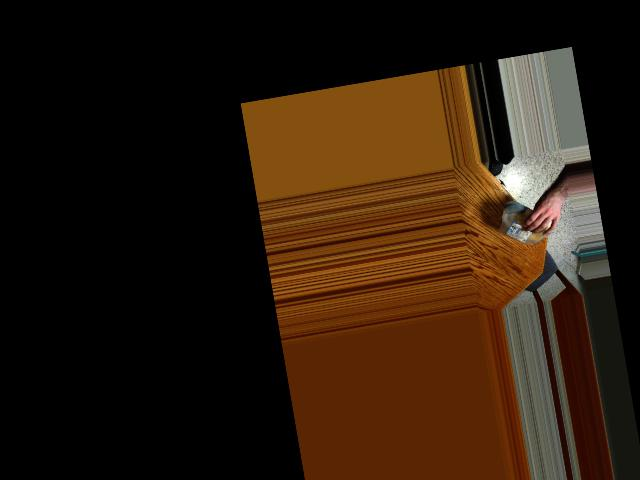cheese: (497, 197, 559, 251)
